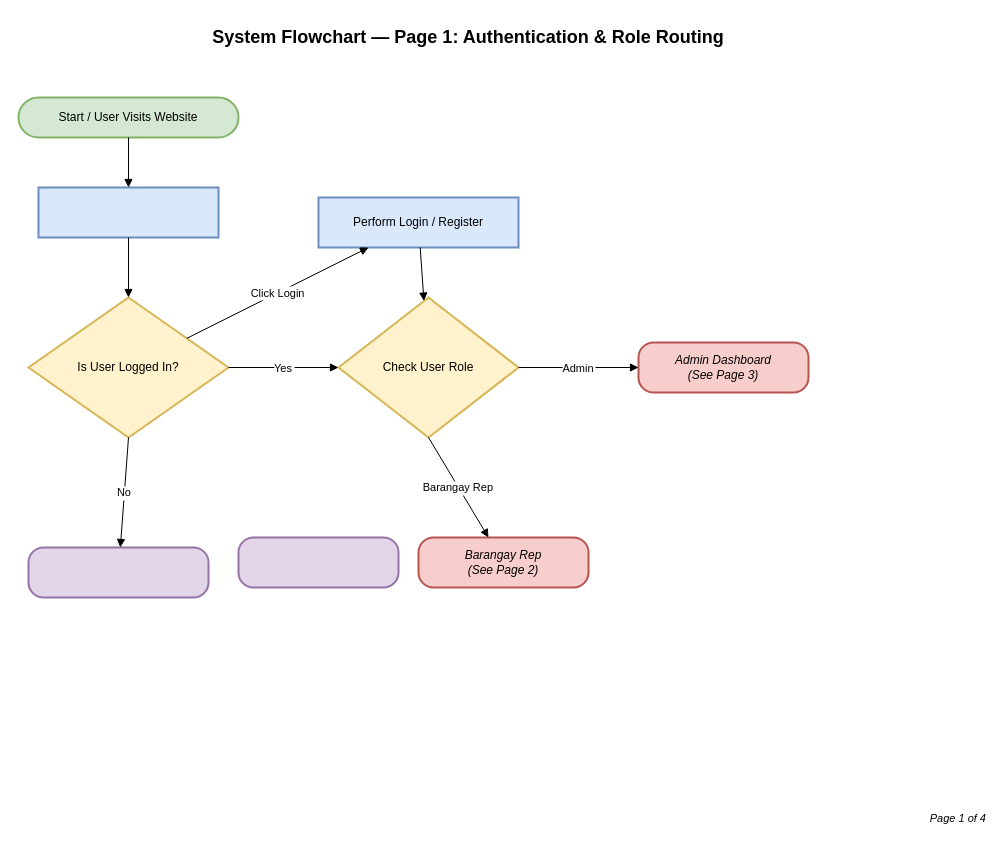
Some shapes in this 1005 by 844 pixel diagram are drawn without their labels. The shapes that lost their labels are listed below. From the top down, each one's box as (x1, y1, x2, y2) in pixels, then its label:
(37, 186, 219, 238): View Landing Page
(27, 546, 209, 598): Go to Public Browsing (See Page 4)
(237, 536, 399, 588): Public Browsing (See Page 4)
